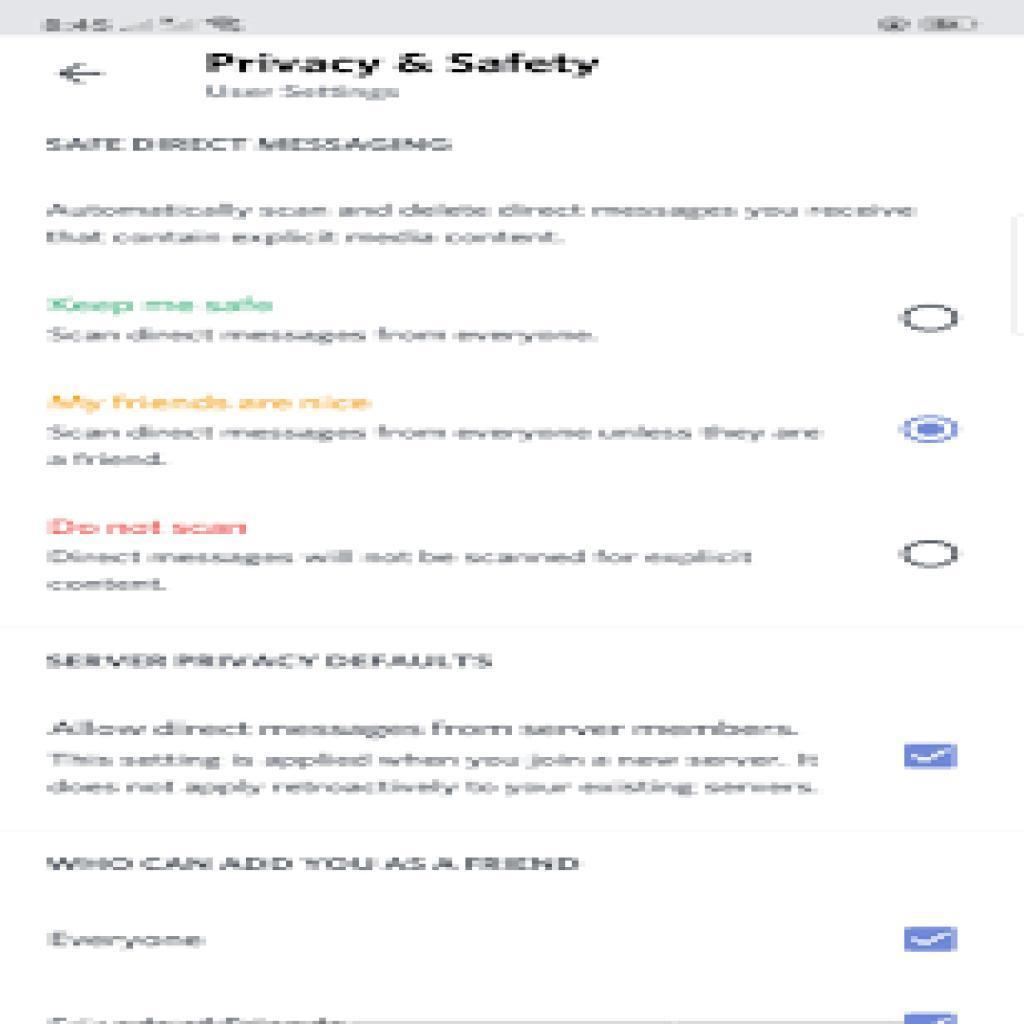checkbox: (903, 743, 960, 772), (904, 925, 957, 955)
radio: (894, 409, 970, 448), (898, 537, 965, 575), (896, 301, 964, 336)
